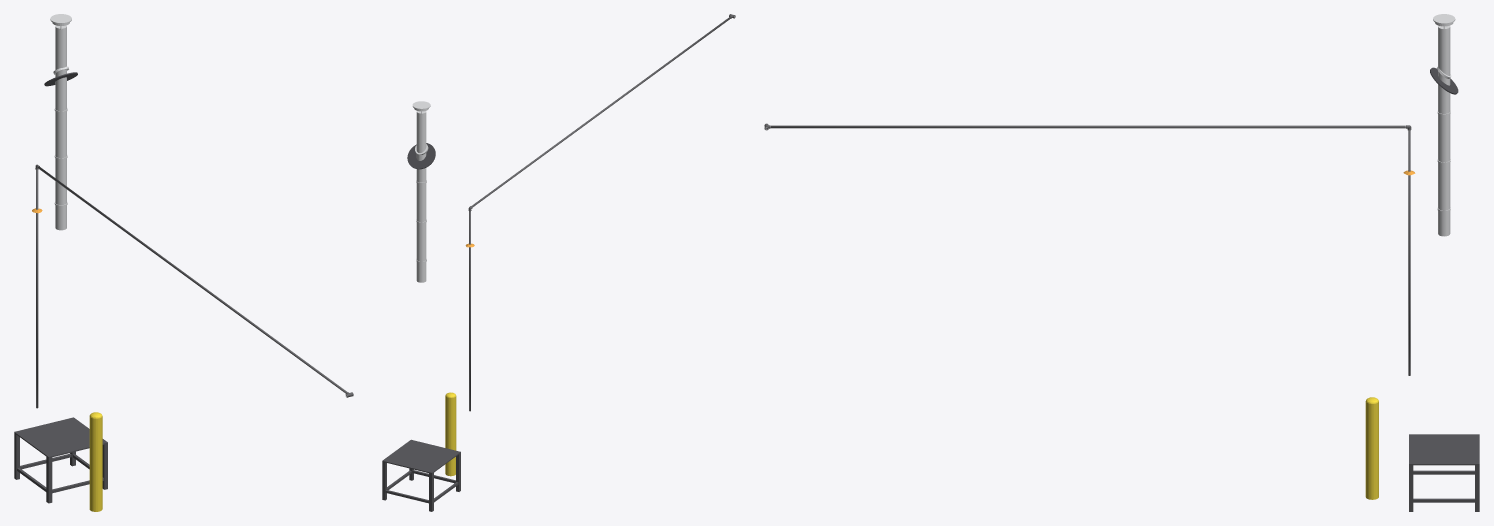
The model's file is slab_pipes_gas__water_heater-garage_gas_tank.glb.
3 renders of one model, left to right at view 1: azimuth 30°, elevation 25°; view 2: azimuth 150°, elevation 25°; view 3: azimuth 270°, elevation 25°, orthographic. The views are drawn at different scales.
Parts seen in each view (by area): view 1: stand_wh_garage_gas, vent_gas_wh_flue_garage, pipe_gas_drop_wh_garage_tank, bollard_wh_garage_gas; view 2: stand_wh_garage_gas, vent_gas_wh_flue_garage, pipe_gas_drop_wh_garage_tank, bollard_wh_garage_gas; view 3: stand_wh_garage_gas, pipe_gas_drop_wh_garage_tank, vent_gas_wh_flue_garage, bollard_wh_garage_gas.
Part boxes in pixels (left/top/right/bottom): stand_wh_garage_gas: left=14, top=417, right=107, bottom=503; vent_gas_wh_flue_garage: left=44, top=14, right=77, bottom=230; pipe_gas_drop_wh_garage_tank: left=36, top=166, right=347, bottom=408; bollard_wh_garage_gas: left=89, top=412, right=102, bottom=511; stand_wh_garage_gas: left=382, top=439, right=460, bottom=511; vent_gas_wh_flue_garage: left=407, top=101, right=435, bottom=282; pipe_gas_drop_wh_garage_tank: left=469, top=16, right=731, bottom=411; bollard_wh_garage_gas: left=445, top=392, right=456, bottom=476; stand_wh_garage_gas: left=1409, top=434, right=1479, bottom=511; pipe_gas_drop_wh_garage_tank: left=770, top=125, right=1410, bottom=375; vent_gas_wh_flue_garage: left=1430, top=14, right=1458, bottom=236; bollard_wh_garage_gas: left=1365, top=397, right=1378, bottom=499.
Bounding box in the file's own units: 0.7711 × 4.56 × 6.17.
